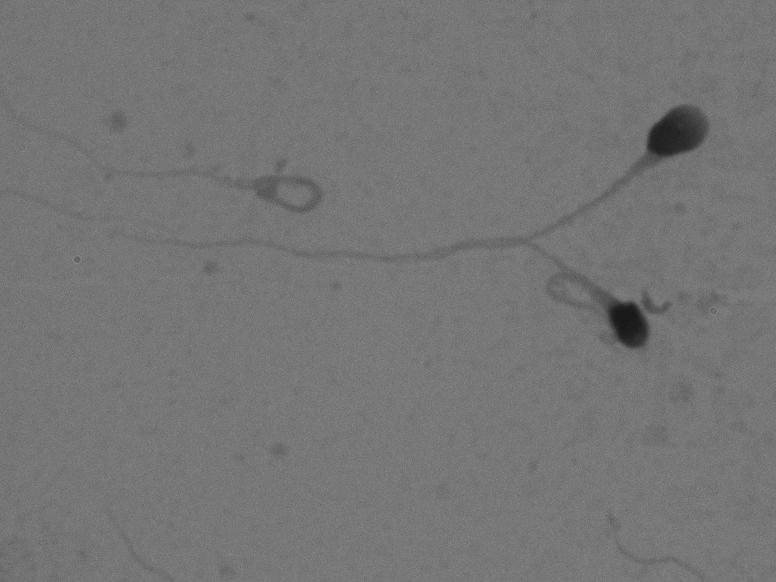Abnormal: (28, 73, 747, 277), (135, 229, 694, 384)
